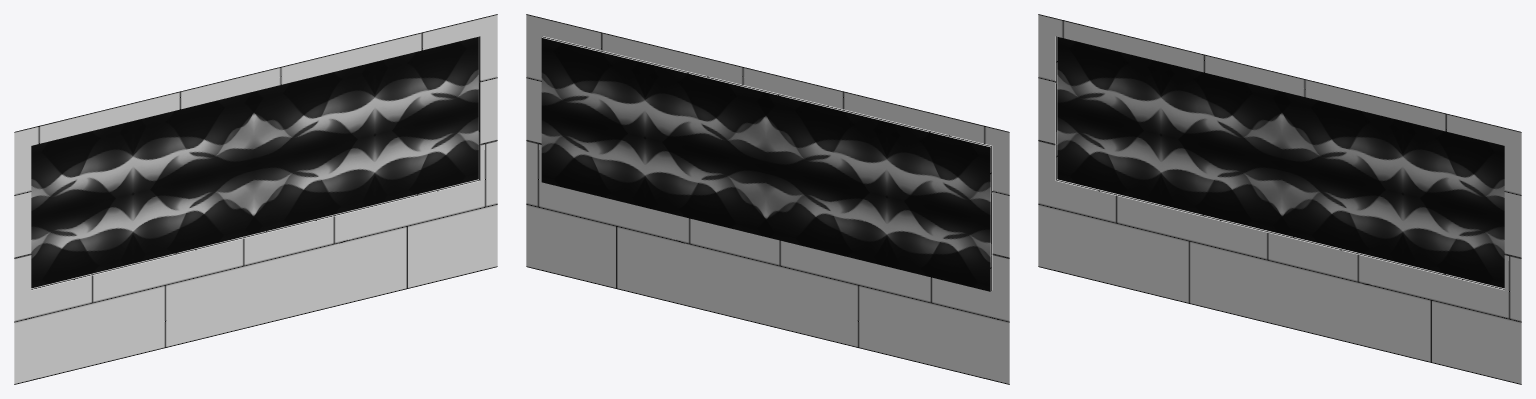
The model's file is WallNiche01_2_700x350cm.FBX.
3 renders of one model, left to right at view 1: azimuth 30°, elevation 25°; view 2: azimuth 150°, elevation 25°; view 3: azimuth 330°, elevation 25°, orthographic.
Visible parts, largest first — view 1: WallNiche01_2_700x350cm; view 2: WallNiche01_2_700x350cm; view 3: WallNiche01_2_700x350cm.
Part boxes in pixels (x1,y1,x2,y2): WallNiche01_2_700x350cm: (14, 14, 497, 384); WallNiche01_2_700x350cm: (526, 14, 1009, 384); WallNiche01_2_700x350cm: (1038, 14, 1521, 384).
Size of the model in its own units: 700 by 350 by 5.
